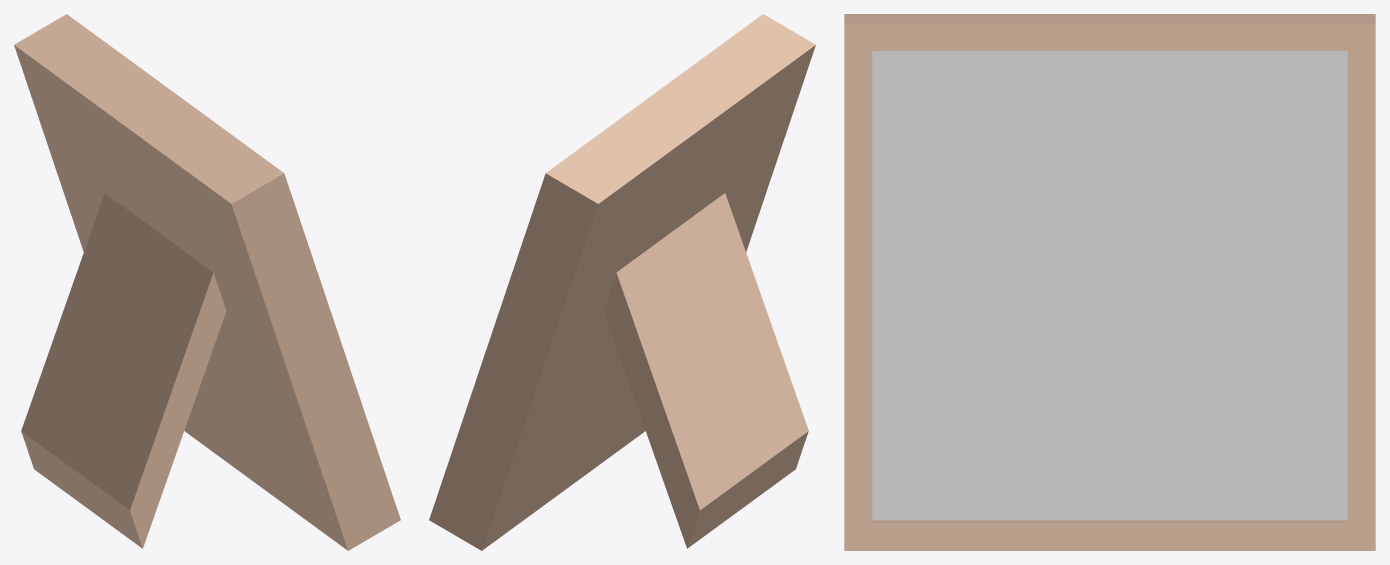
Rendered from Small picture frame.fbx.
3 renders of one model, left to right at view 1: azimuth 30°, elevation 25°; view 2: azimuth 150°, elevation 25°; view 3: azimuth 270°, elevation 25°, orthographic. The views are drawn at different scales.
Visible parts, largest first — view 1: Picture frame; view 2: Picture frame; view 3: Picture frame.
Boxes of the visible parts, left/top/right/bottom form: Picture frame: left=14, top=14, right=400, bottom=550; Picture frame: left=429, top=14, right=815, bottom=550; Picture frame: left=844, top=14, right=1375, bottom=550.
Bounding box in the file's own units: 19.99 × 34.75 × 34.77.
